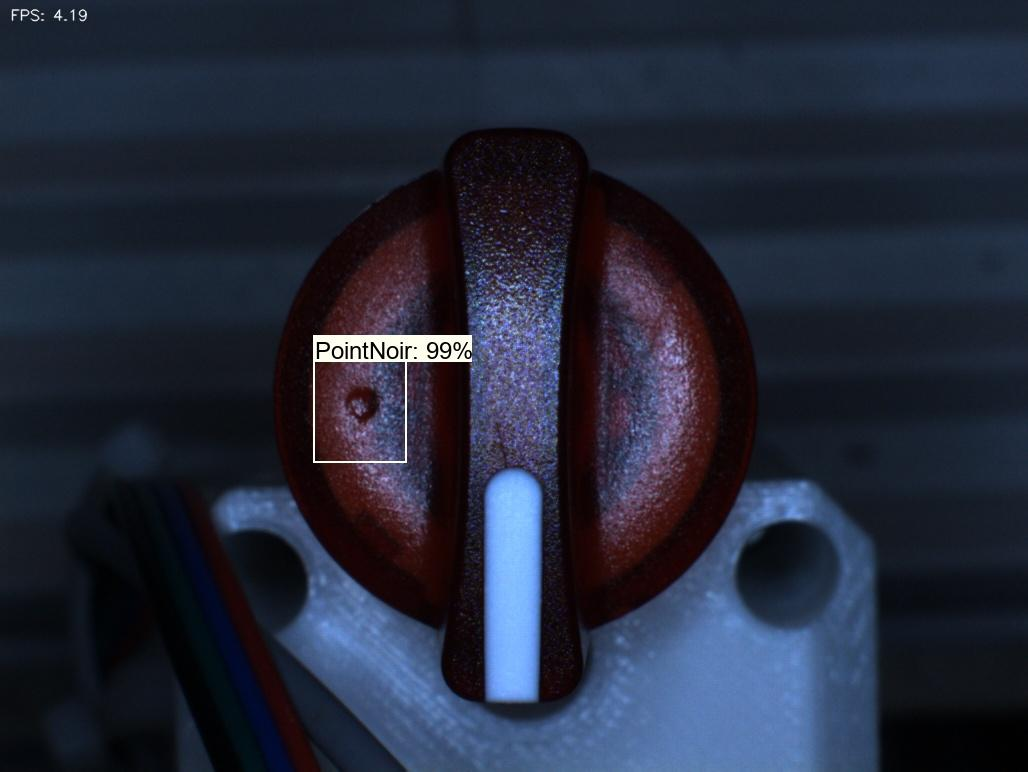Choc: (322, 370, 400, 447)
